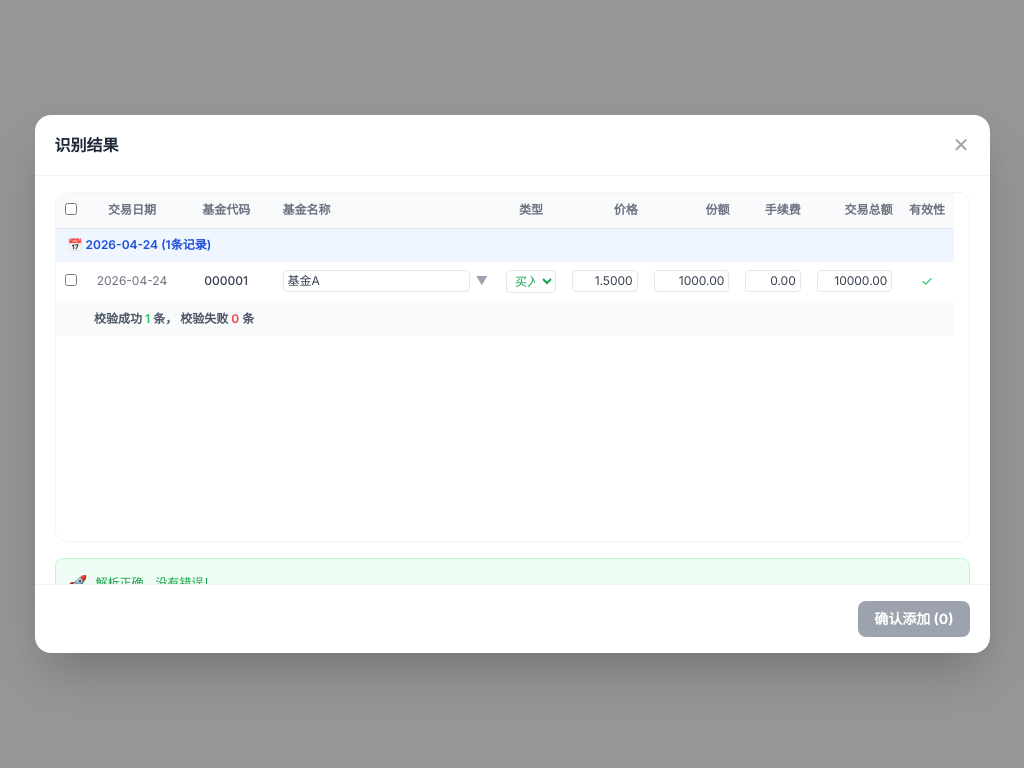
Test: TradeSmartInputResultModal › 确认和关闭 › 有有效记录时关闭显示确认弹窗
Click the button "✕" at (961, 145), box left=953, top=131, right=970, bottom=159
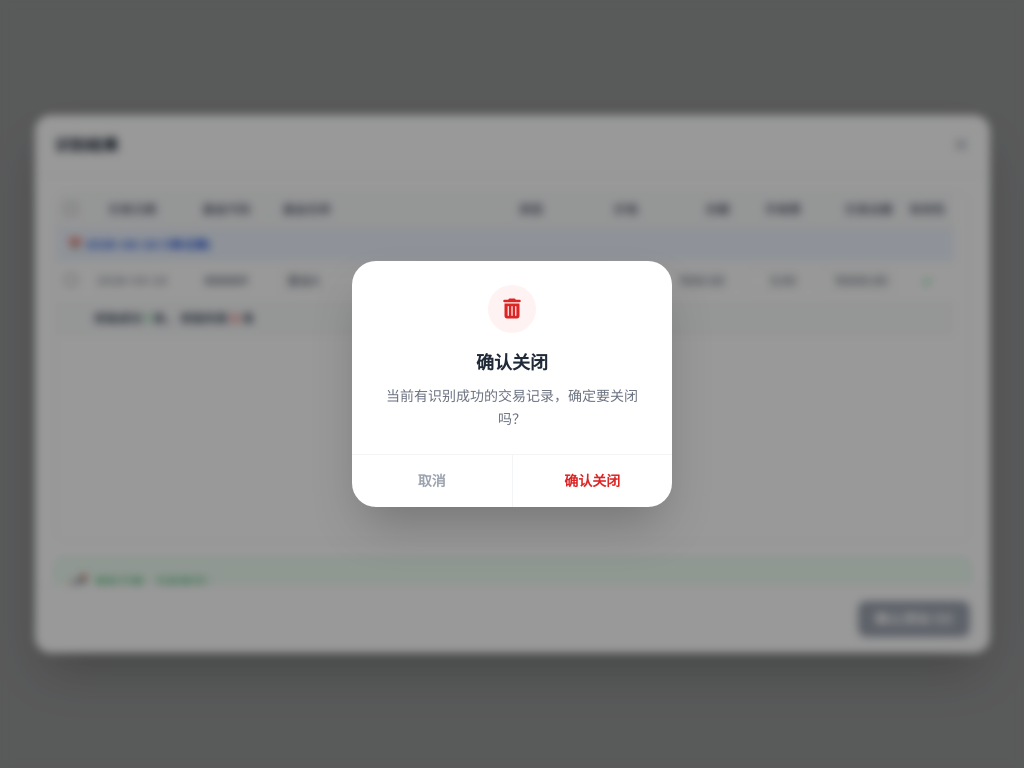
expect the heading "确认关闭" is shown: met, box left=476, top=352, right=548, bottom=373
expect the text "当前有识别成功的交易记录，确定要关闭吗？" is shown: met, box left=376, top=385, right=648, bottom=430
